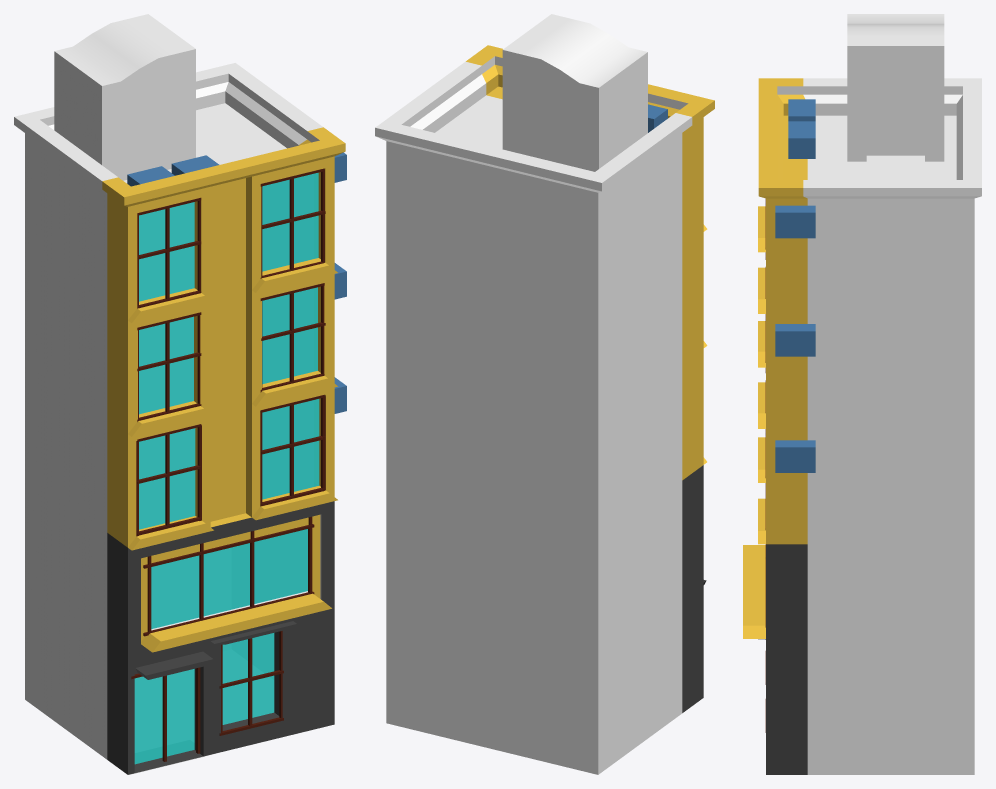
File: House 2.fbx
3 views of the same model, side by side, from view 1: azimuth 30°, elevation 25°; view 2: azimuth 150°, elevation 25°; view 3: azimuth 270°, elevation 25° (orthographic). The views are drawn at different scales.
Parts seen in each view (by area): view 1: Box243, Box263; view 2: Box243; view 3: Box243, Box244, Box245, Box246, Box262, Box261, Box263.
Boxes of the visible parts, box(x1,y1,x2,y2) form: Box243: box(14, 14, 345, 774); Box263: box(131, 168, 325, 761); Box243: box(375, 14, 714, 774); Box243: box(743, 14, 981, 774); Box244: box(775, 205, 815, 238); Box245: box(775, 324, 815, 356); Box246: box(775, 440, 815, 472); Box262: box(788, 121, 815, 158); Box261: box(788, 99, 815, 121); Box263: box(765, 199, 765, 732).
Bounding box in the file's own units: 50.2 × 139 × 44.32.
